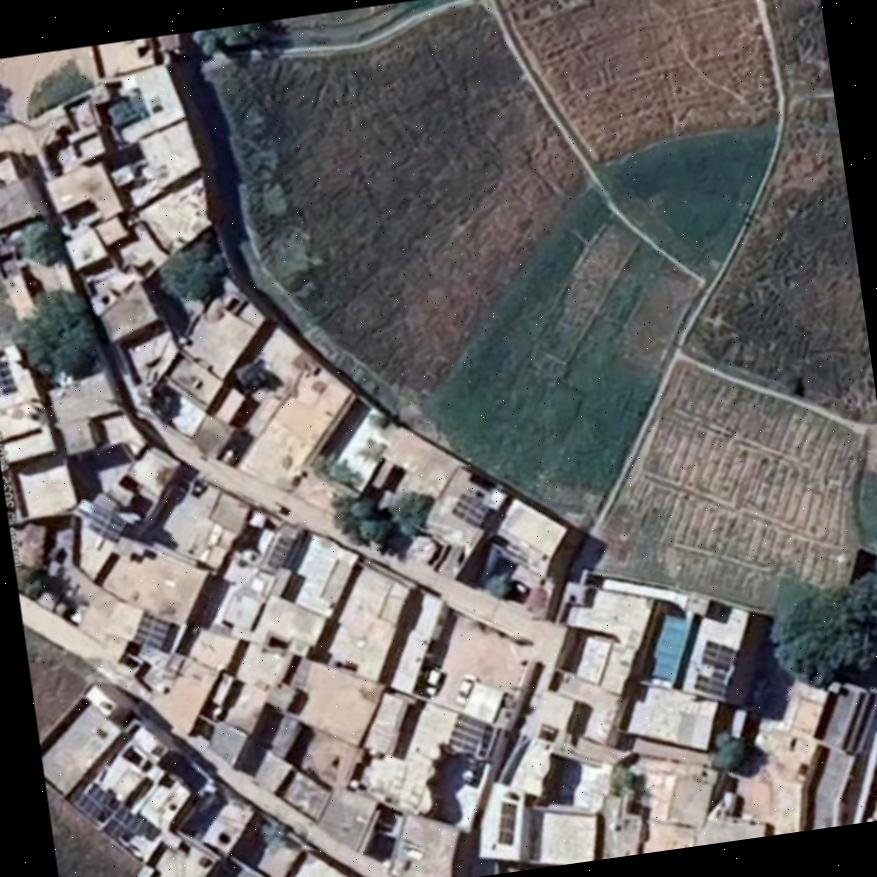Solarpanel: (693, 641, 734, 693), (130, 612, 168, 650), (85, 504, 124, 541), (453, 494, 490, 527), (498, 803, 514, 843)
